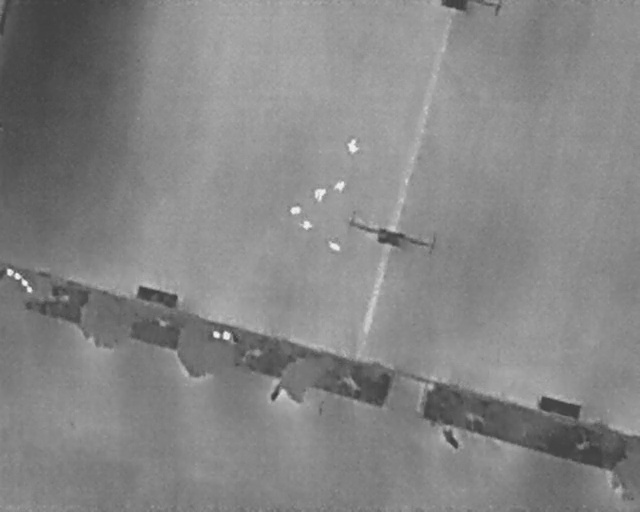Car: (347, 138, 360, 154), (333, 180, 347, 194), (313, 188, 327, 202), (328, 240, 341, 253), (290, 205, 302, 215), (301, 220, 313, 230)
